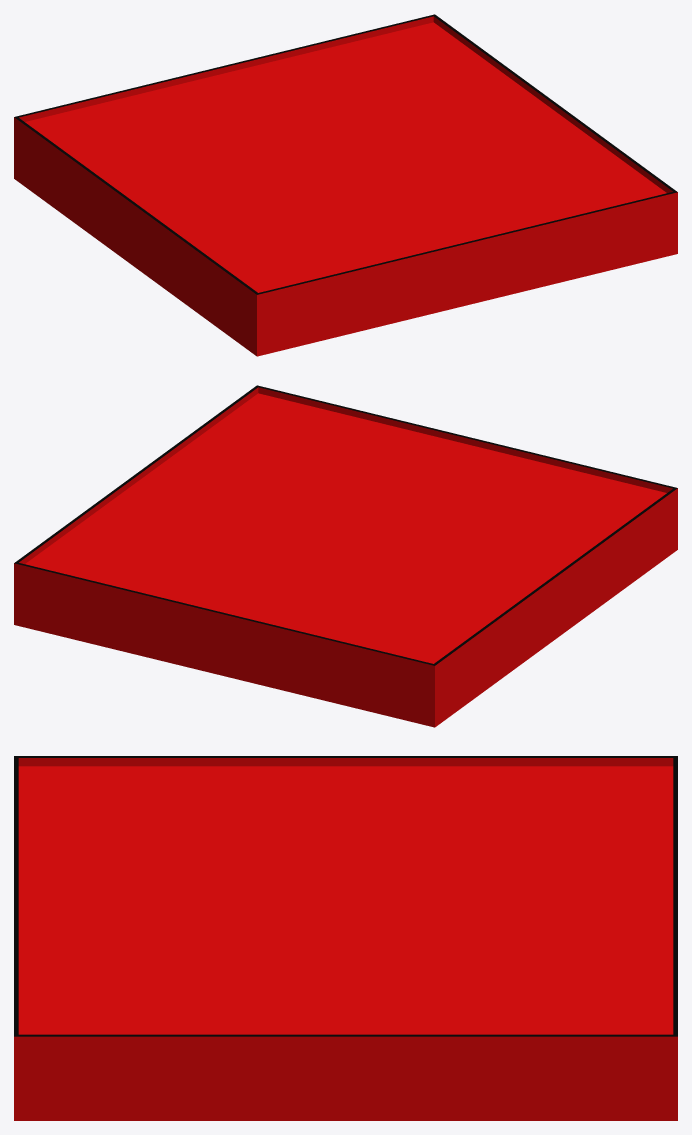
File: Collection.glb
3 views of the same model, one above another, from view 1: azimuth 30°, elevation 25°; view 2: azimuth 150°, elevation 25°; view 3: azimuth 270°, elevation 25° (orthographic). The views are drawn at different scales.
Parts seen in each view (by area): view 1: ground; view 2: ground; view 3: ground.
Boxes of the visible parts, x1,y1,x2,y2 form: ground: (14, 14, 677, 356); ground: (14, 385, 677, 727); ground: (14, 756, 677, 1120).
Bounding box in the file's own units: 1 × 0.14 × 1.
